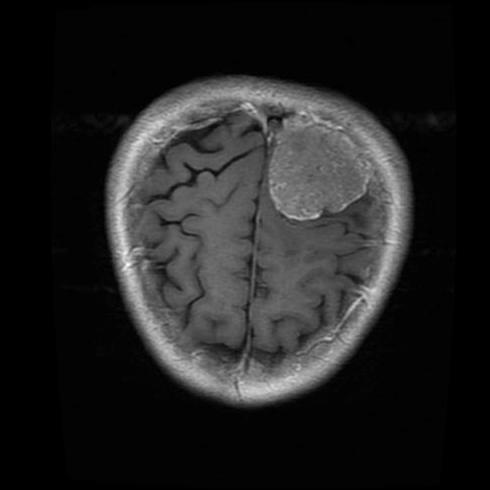Tumour-Meningioma: (252, 105, 374, 239)
